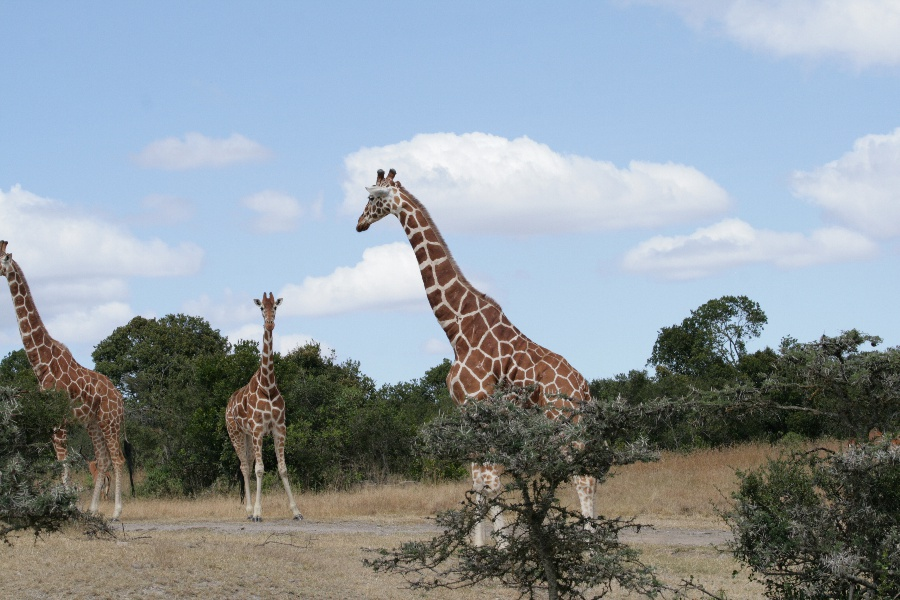giraffe: (350, 161, 610, 549), (0, 230, 128, 532), (220, 286, 308, 529)
